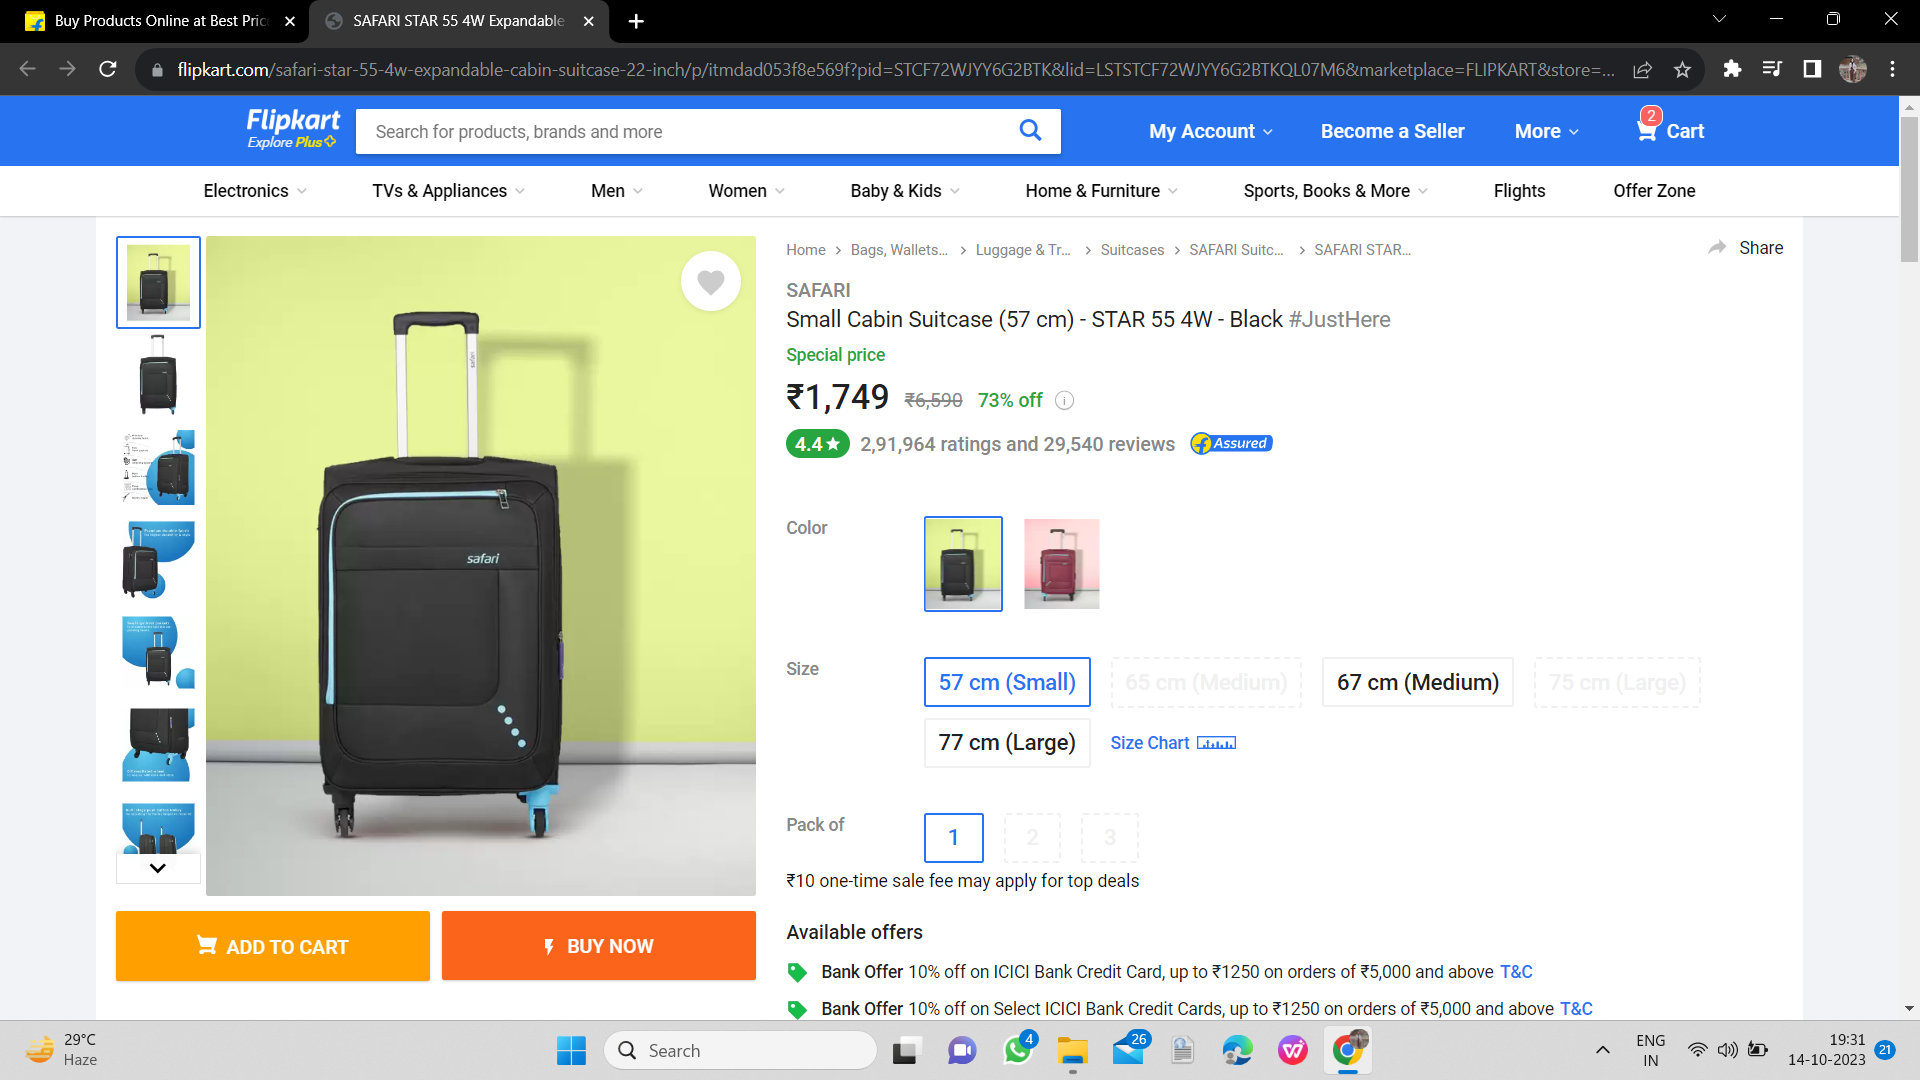Image: (211, 241, 752, 886), (886, 500, 1126, 630)
Paragraph: (895, 647, 1544, 762), (103, 893, 756, 993), (782, 952, 1609, 1019), (775, 269, 1292, 335), (1130, 96, 1720, 148), (773, 425, 1282, 465), (775, 342, 1044, 418), (766, 807, 1035, 865), (775, 869, 1166, 899), (775, 914, 931, 944), (766, 649, 852, 694), (778, 510, 833, 549)
